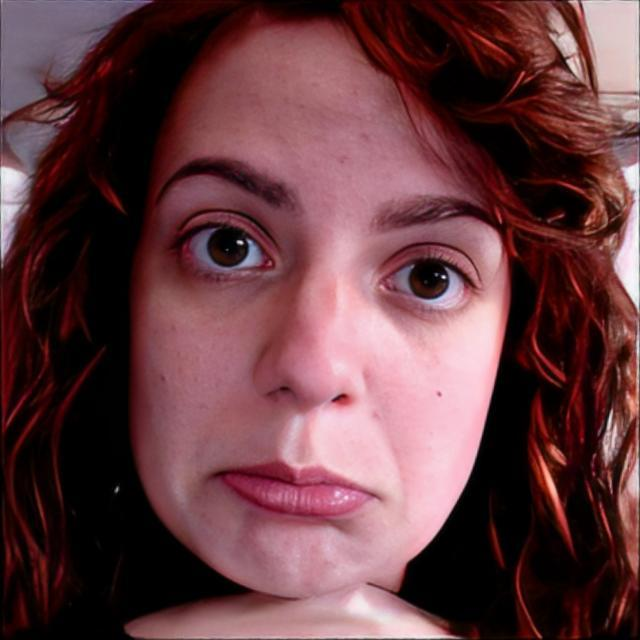sad: (124, 12, 507, 600)
